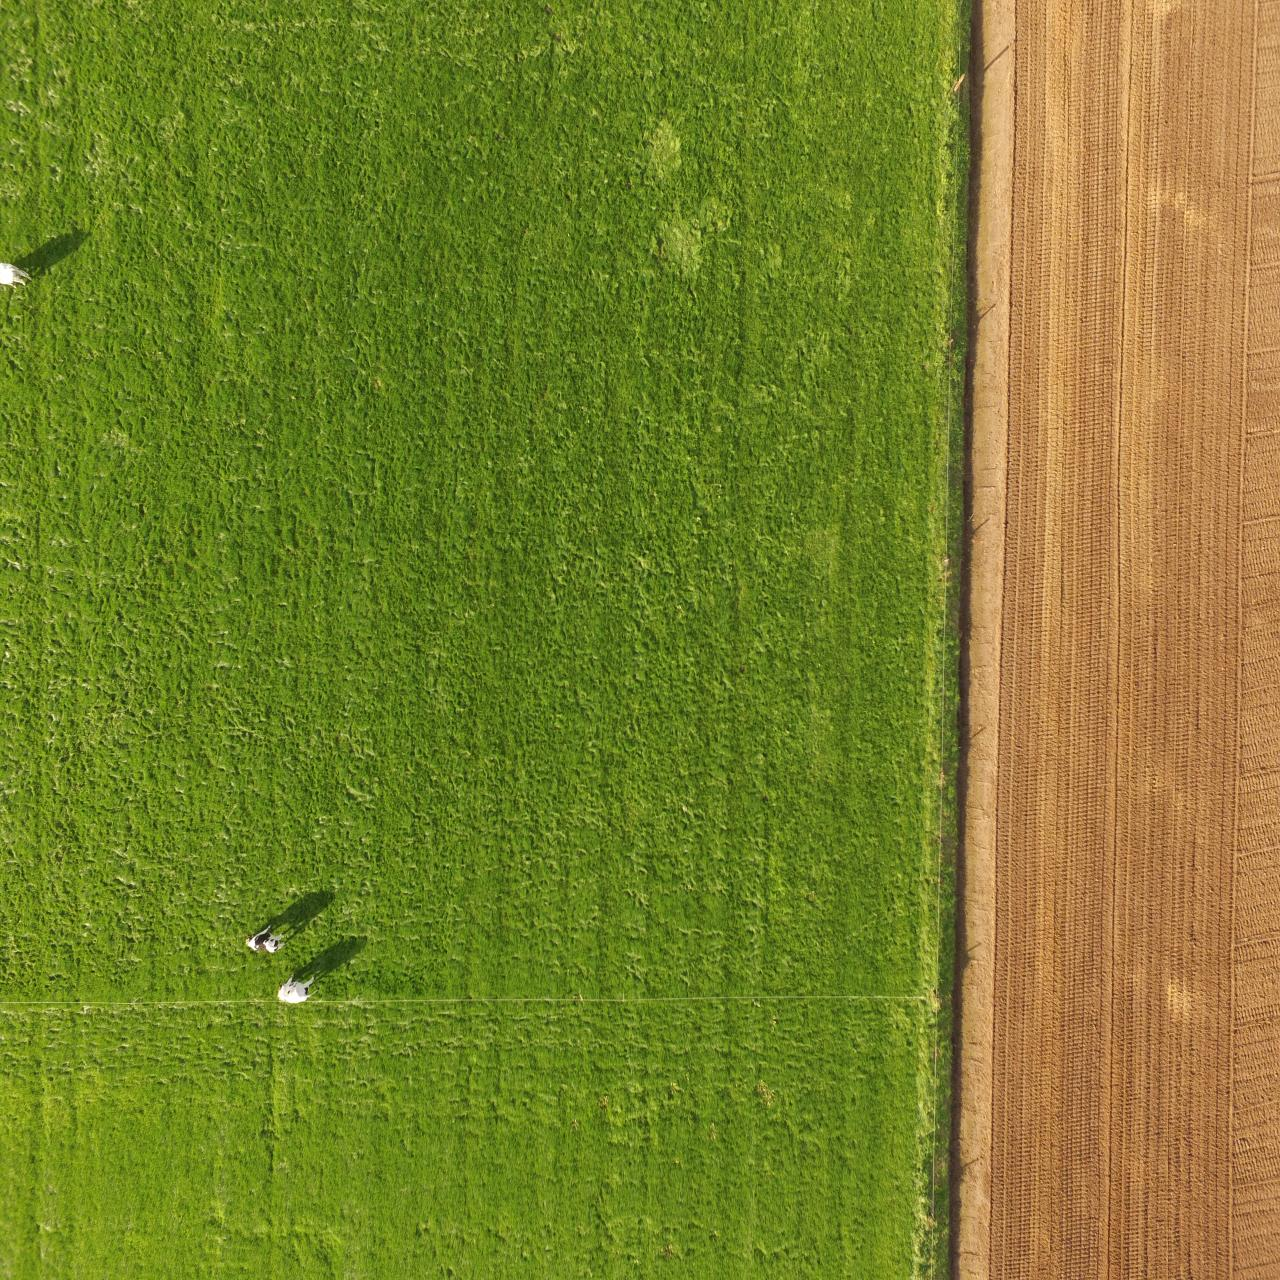cow: (275, 972, 319, 1003), (244, 924, 286, 954)
